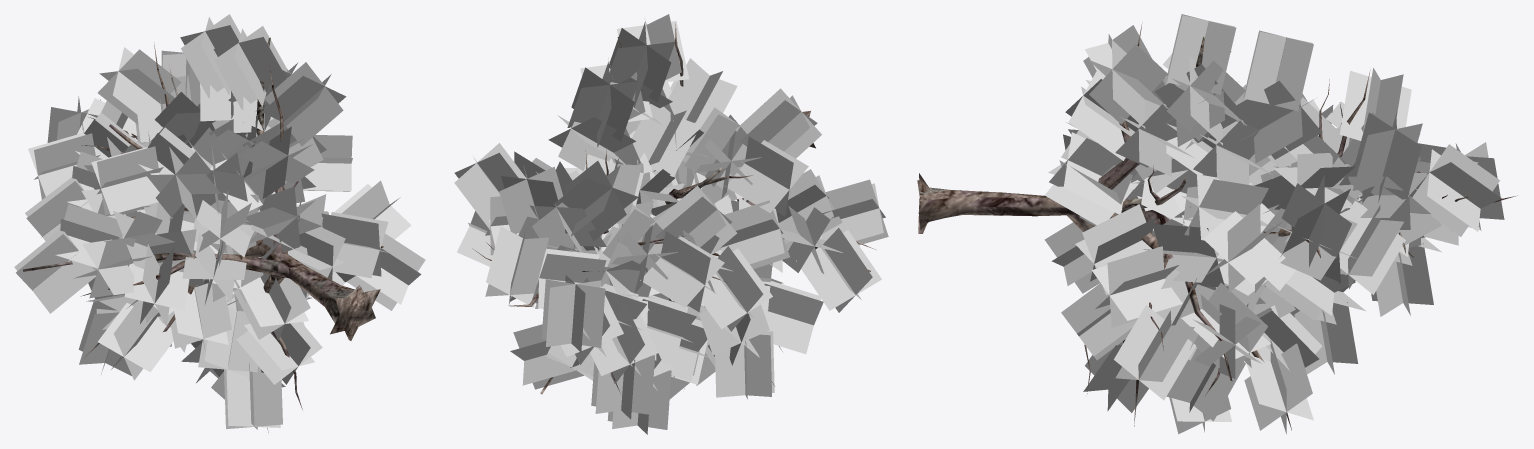
Rendered from Tree 01 Elaborate 1.fbx.
3 views of the same model, side by side, from view 1: azimuth 30°, elevation 25°; view 2: azimuth 150°, elevation 25°; view 3: azimuth 270°, elevation 25° (orthographic). The views are drawn at different scales.
Visible parts, largest first — view 1: Tree 01 Elaborate; view 2: Tree 01 Elaborate; view 3: Tree 01 Elaborate.
Boxes of the visible parts, x1=… form: Tree 01 Elaborate: x1=14, y1=14, x2=425, y2=432; Tree 01 Elaborate: x1=454, y1=14, x2=888, y2=434; Tree 01 Elaborate: x1=917, y1=14, x2=1517, y2=434.
Size of the model in its own units: 163 by 149 by 191.
2 materials, 1 textured.
